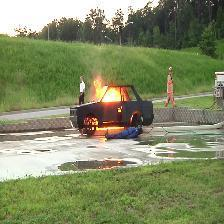fire: (90, 76, 128, 101), (84, 116, 123, 130), (115, 105, 123, 112)
